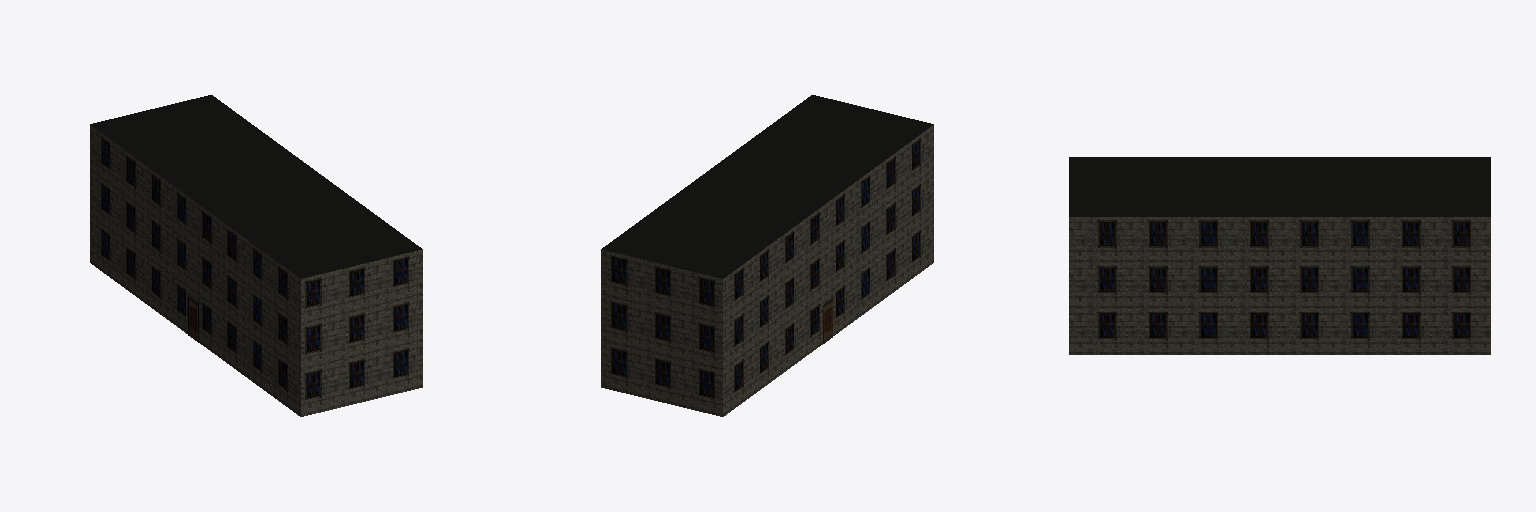
3 views of the same model, side by side, from view 1: azimuth 30°, elevation 25°; view 2: azimuth 150°, elevation 25°; view 3: azimuth 270°, elevation 25° (orthographic).
Visible parts, largest first — view 1: house3; view 2: house3; view 3: house3.
Part boxes in pixels (x1,y1,x2,y2): house3: (90, 95, 422, 416); house3: (601, 95, 933, 416); house3: (1069, 157, 1490, 354).
Size of the model in its own units: 16.07 by 17.33 by 48.
3 materials, 2 textured.